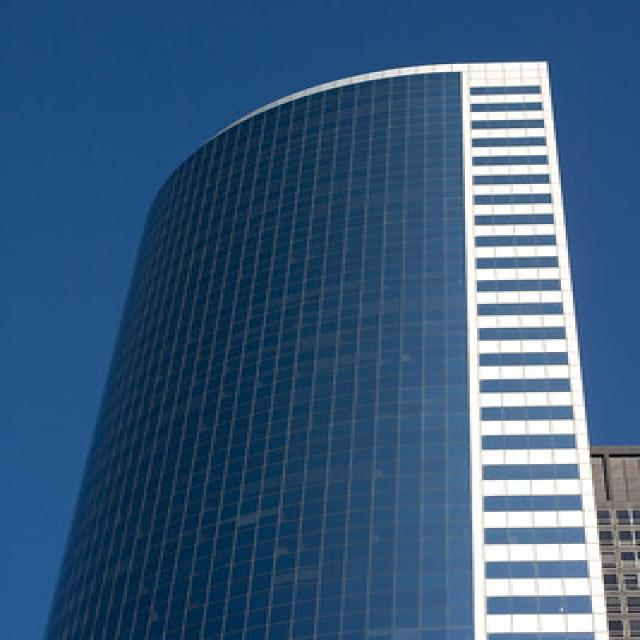building: (30, 54, 615, 640)
